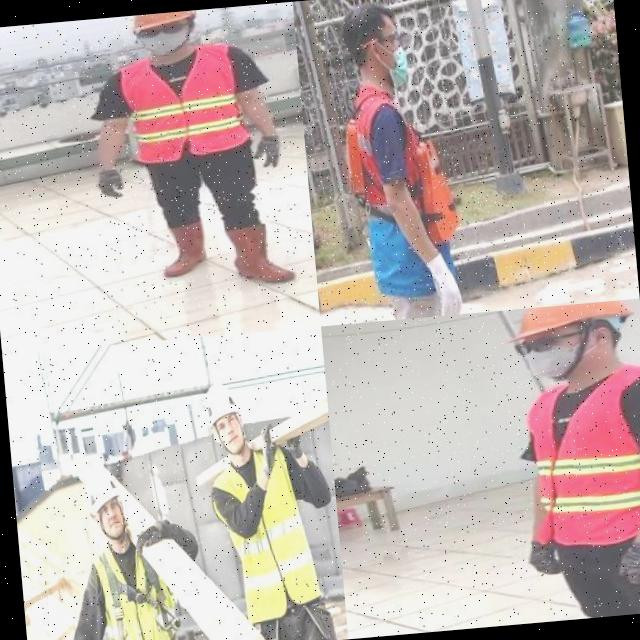boots: (228, 212, 310, 288), (152, 218, 218, 281)
helmet: (498, 298, 640, 342), (74, 460, 134, 528), (192, 374, 250, 436), (124, 10, 198, 34)
vest: (330, 68, 478, 308), (195, 426, 342, 638), (503, 358, 640, 560), (112, 39, 255, 168), (77, 515, 200, 640)
